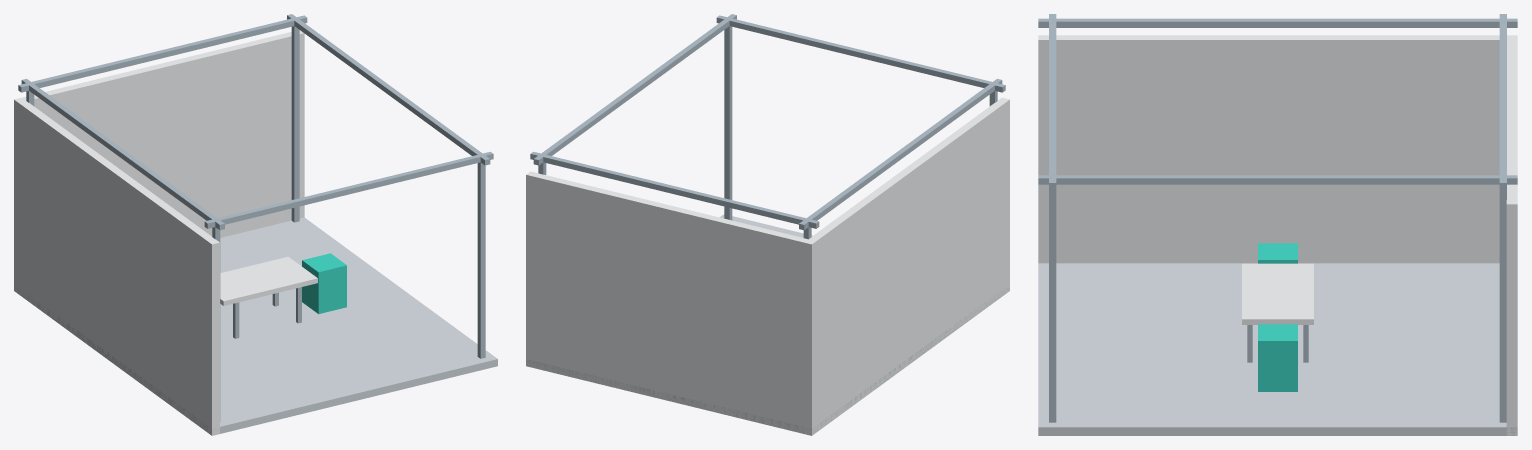
3 renders of one model, left to right at view 1: azimuth 30°, elevation 25°; view 2: azimuth 150°, elevation 25°; view 3: azimuth 270°, elevation 25°, orthographic. The views are drawn at different scales.
Parts seen in each view (by area): view 1: Exhibition Booth Concept; view 2: Exhibition Booth Concept; view 3: Exhibition Booth Concept.
Part boxes in pixels (x1,y1,x2,y2): Exhibition Booth Concept: (14, 14, 497, 435); Exhibition Booth Concept: (526, 14, 1009, 435); Exhibition Booth Concept: (1038, 14, 1517, 435).
Bounding box in the file's own units: 5 × 3.49 × 6.
